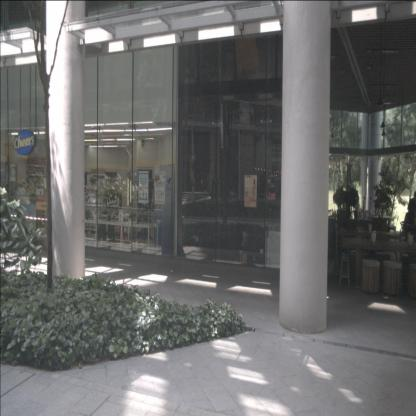human-pedestrian-adult: (402, 207, 416, 248), (407, 190, 416, 248)
